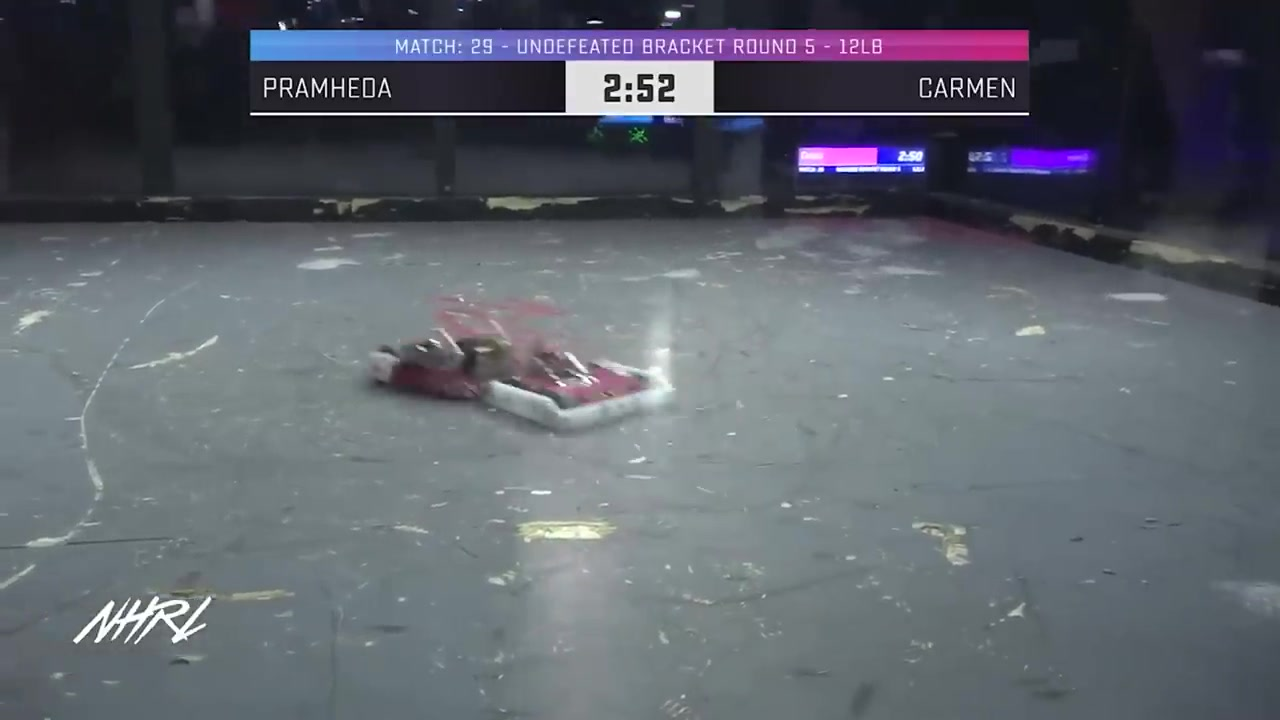combatbot: (490, 353, 673, 435), (365, 320, 511, 407)
